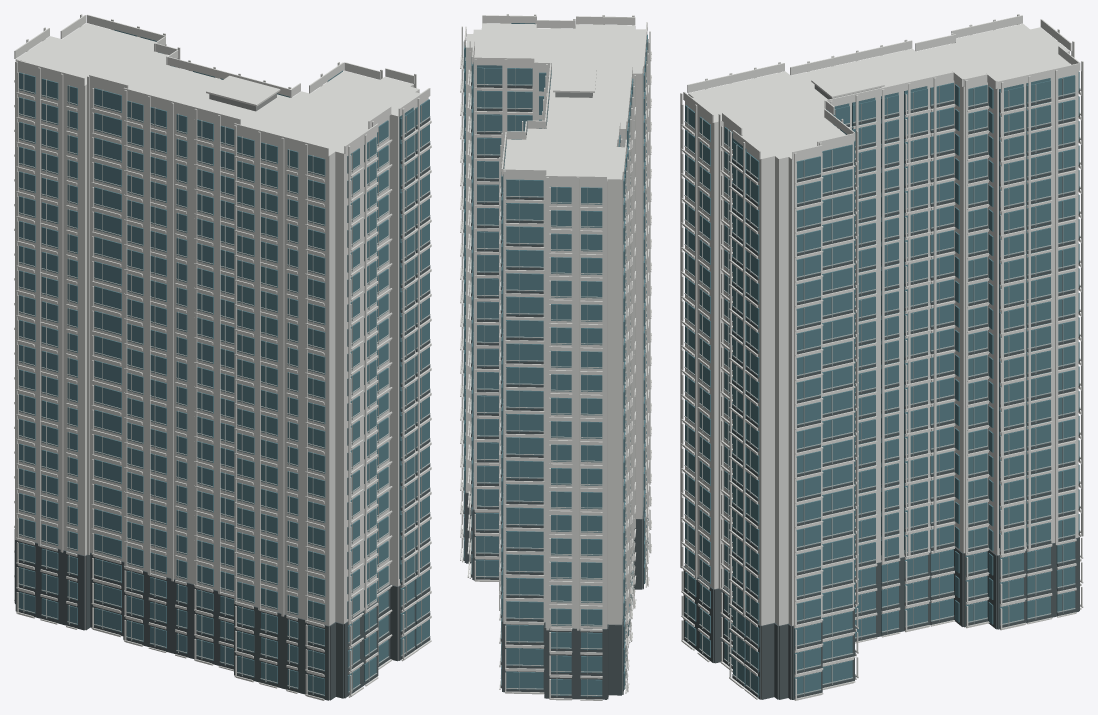
File: bespoke-acro-riverpark-102.glb
3 views of the same model, side by side, from view 1: azimuth 30°, elevation 25°; view 2: azimuth 150°, elevation 25°; view 3: azimuth 270°, elevation 25° (orthographic). The views are drawn at different scales.
Parts seen in each view (by area): view 1: editable_Warm_pale_architectural_planes006, editable_Blue_grey_glazing006, editable_Silver_glazing_mullions006, editable_Charcoal_stone_lower_storeys006; view 2: editable_Warm_pale_architectural_planes006, editable_Blue_grey_glazing006, editable_Charcoal_stone_lower_storeys006, editable_Silver_glazing_mullions006; view 3: editable_Blue_grey_glazing006, editable_Warm_pale_architectural_planes006, editable_Charcoal_stone_lower_storeys006, editable_Silver_glazing_mullions006.
Boxes of the visible parts, left/top/right/bottom form: editable_Warm_pale_architectural_planes006: left=14, top=14, right=431, bottom=700; editable_Blue_grey_glazing006: left=19, top=29, right=429, bottom=696; editable_Silver_glazing_mullions006: left=18, top=73, right=430, bottom=695; editable_Charcoal_stone_lower_storeys006: left=14, top=117, right=430, bottom=700; editable_Warm_pale_architectural_planes006: left=460, top=14, right=651, bottom=700; editable_Blue_grey_glazing006: left=464, top=23, right=647, bottom=696; editable_Charcoal_stone_lower_storeys006: left=463, top=65, right=644, bottom=699; editable_Silver_glazing_mullions006: left=463, top=39, right=648, bottom=697; editable_Blue_grey_glazing006: left=685, top=72, right=1079, bottom=697; editable_Warm_pale_architectural_planes006: left=680, top=14, right=1083, bottom=700; editable_Charcoal_stone_lower_storeys006: left=683, top=90, right=1079, bottom=699; editable_Silver_glazing_mullions006: left=684, top=78, right=1080, bottom=695.
Bounding box in the file's own units: 42.09 × 77 × 51.34.
